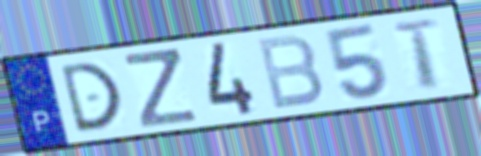4: (205, 40, 258, 118)
5: (321, 21, 392, 102)
B: (253, 32, 326, 112)
D: (56, 59, 125, 136)
T: (389, 17, 444, 92)
Z: (120, 47, 201, 131)
